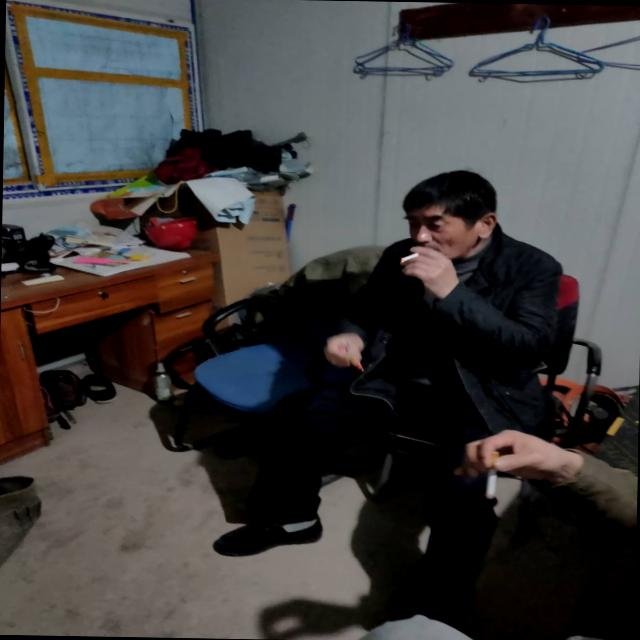cigarette: (381, 241, 436, 274)
